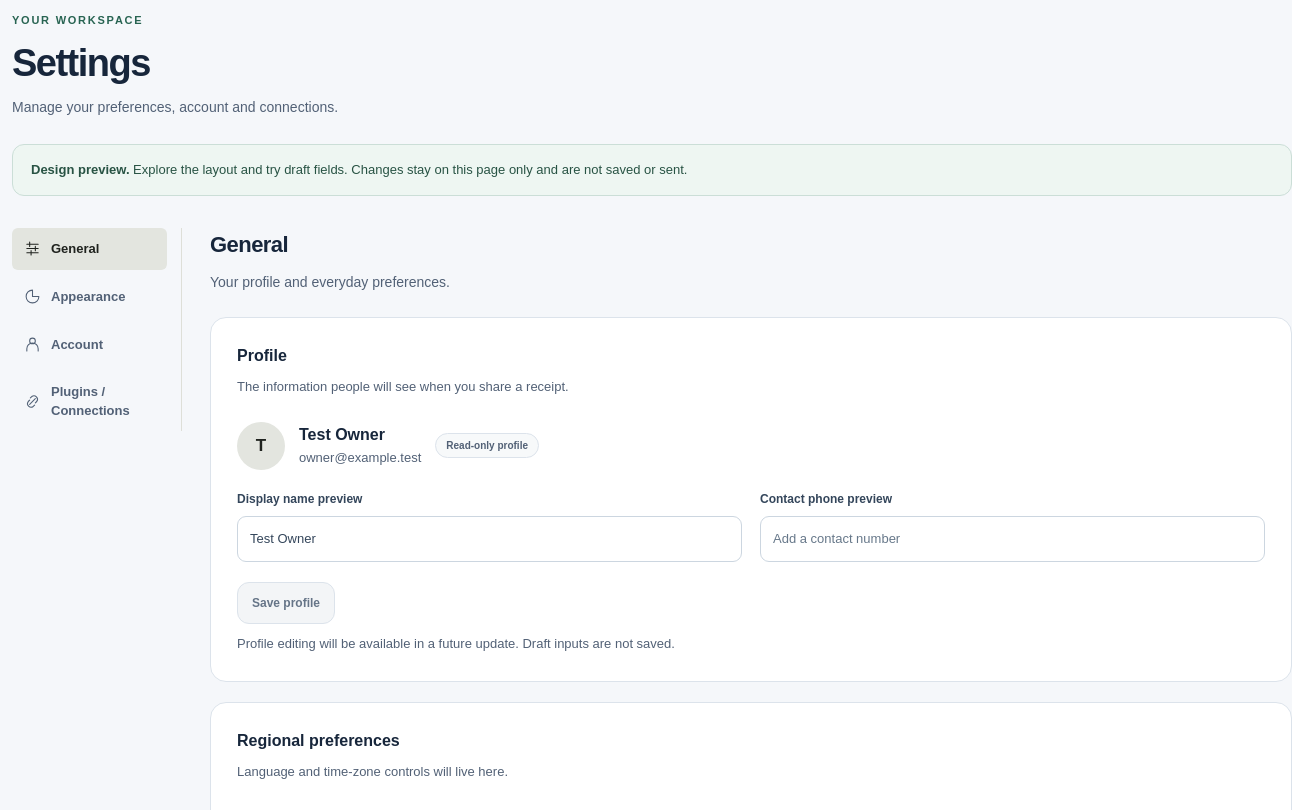
Test: uses the real read-only profile, labels draft fields and discards drafts when leaving a section
Expected: the text "owner@example.test" is shown, top-left (299, 447), bottom-right (421, 469)
Replace the text in the field labelled "Display name preview" with "Draft only". click: coordinates (490, 539)
box: top-left (237, 516), bottom-right (742, 562)
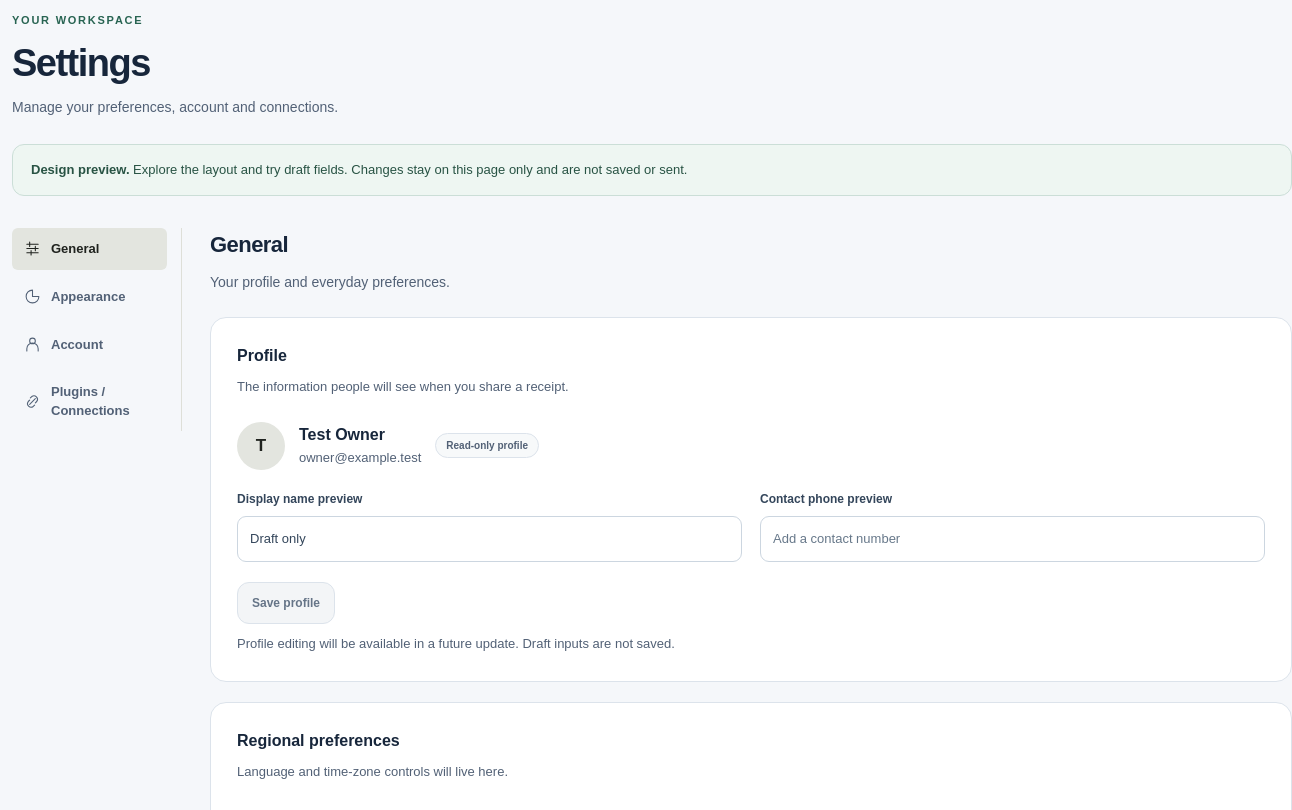
Click the button "Account". click: coordinates (90, 345)
box: top-left (12, 324), bottom-right (167, 366)
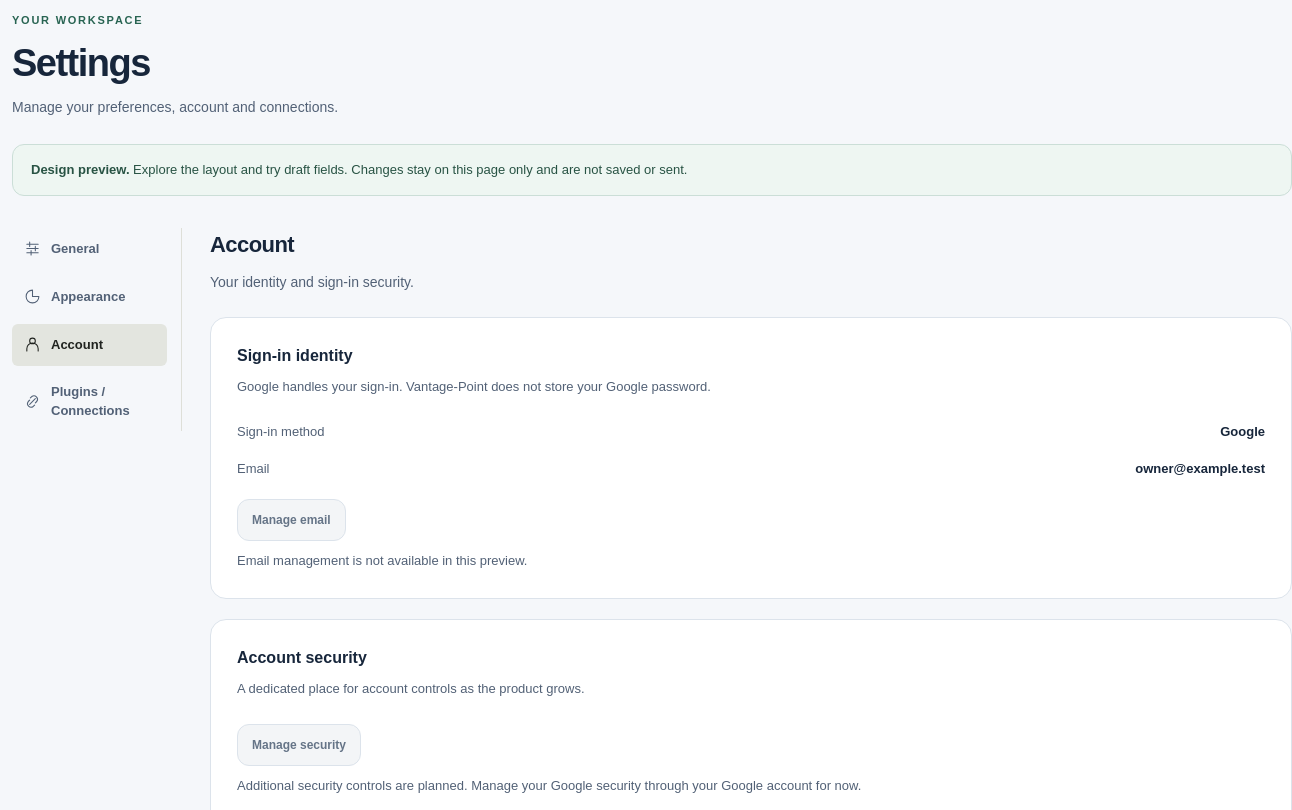
Expected: the text "owner@example.test" is shown, top-left (1135, 459), bottom-right (1265, 479)
Result: the button "Manage email" is disabled at top-left (237, 499), bottom-right (346, 541)
Click the button "General". click: coordinates (90, 249)
box: top-left (12, 228), bottom-right (167, 270)
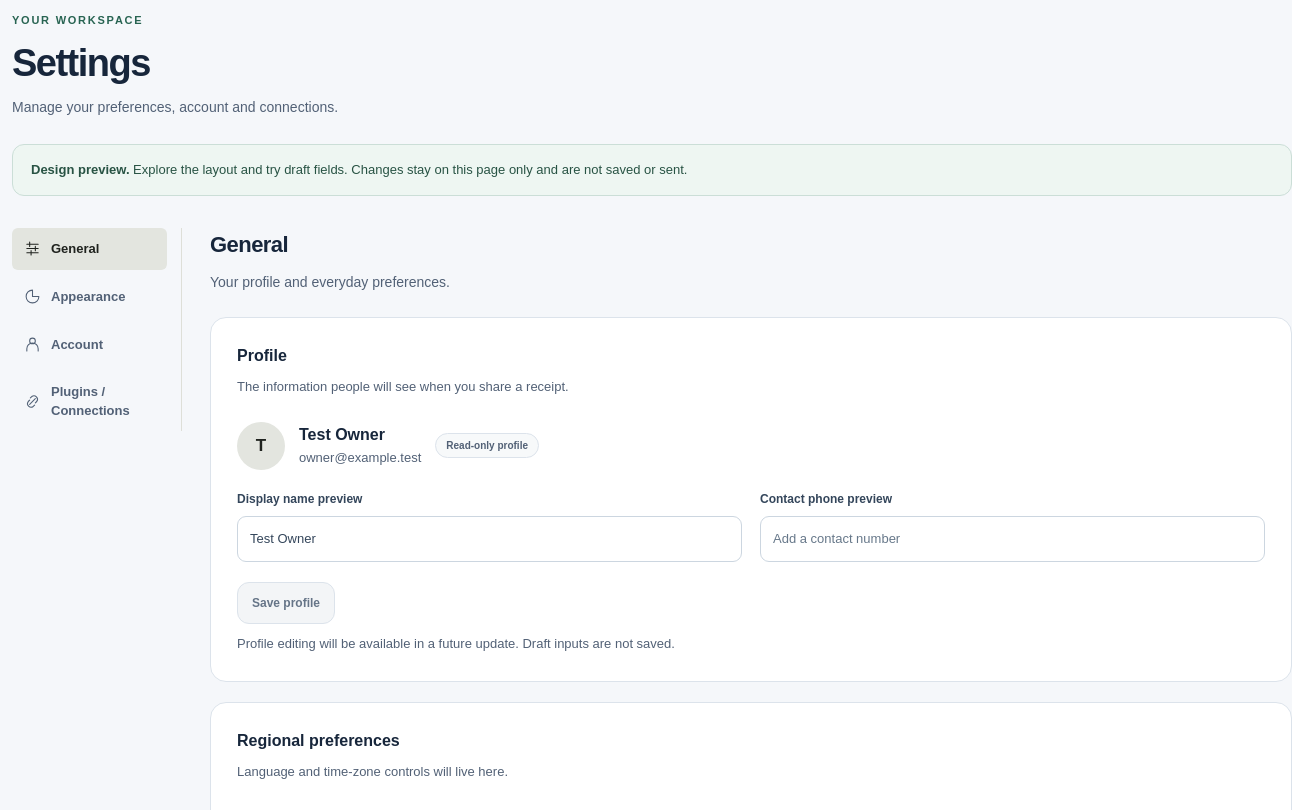
Result: the field labelled "Display name preview" holds "Test Owner" at top-left (237, 516), bottom-right (742, 562)
